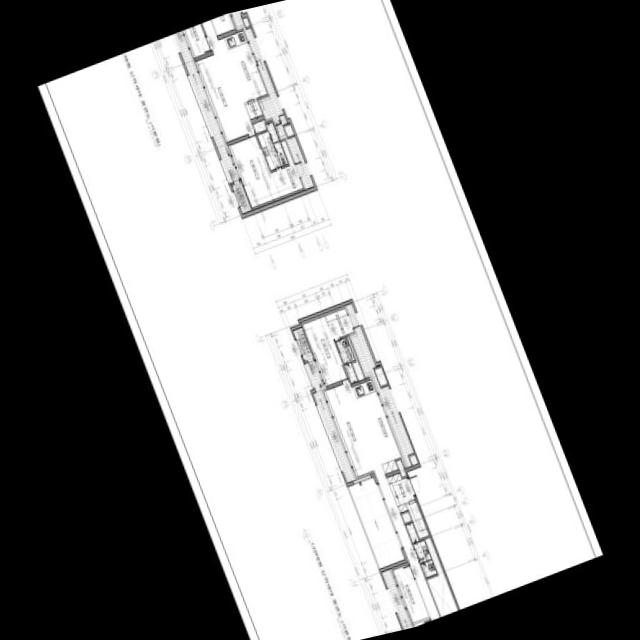background: (37, 0, 603, 640)
space_balconi: (345, 303, 413, 467), (173, 31, 239, 183), (231, 10, 287, 137), (305, 360, 355, 482), (348, 477, 404, 568), (381, 569, 411, 629), (287, 136, 313, 189)
space_bedroom: (228, 135, 280, 209), (302, 316, 347, 386), (392, 564, 428, 622), (183, 23, 210, 58), (211, 13, 235, 35)
space_dressroom: (270, 138, 303, 198), (324, 308, 353, 339)
space_front: (387, 473, 415, 512)
space_kitchen: (352, 379, 405, 473), (218, 30, 267, 103)
space_living_room: (323, 381, 439, 620), (195, 19, 254, 142)
space_other: (424, 537, 457, 617), (406, 501, 428, 538), (346, 336, 364, 380), (245, 100, 262, 119), (374, 367, 387, 386), (252, 119, 266, 133), (396, 459, 405, 476), (401, 512, 411, 523), (284, 124, 293, 136), (409, 454, 417, 465), (242, 17, 249, 27)
space_outdoor_room: (292, 327, 313, 361), (231, 182, 251, 213)
space_toilet: (405, 522, 436, 577), (257, 122, 287, 170), (335, 337, 357, 383)
